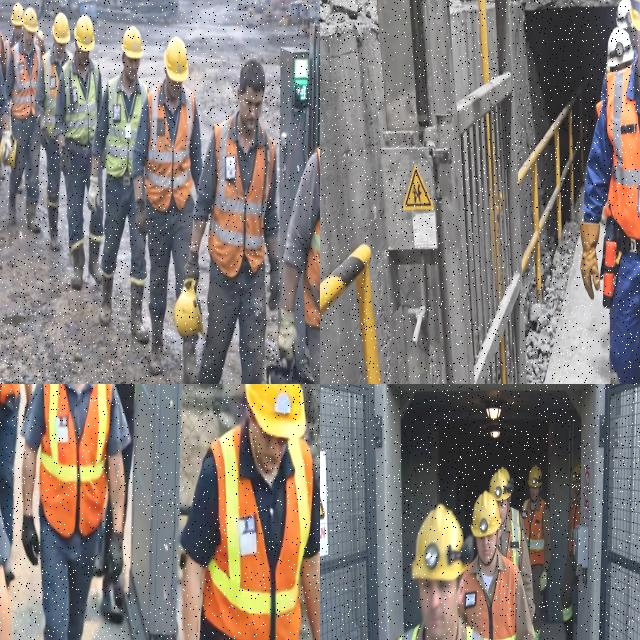Vest: (203, 426, 312, 639), (39, 384, 112, 537), (208, 115, 274, 277), (144, 83, 194, 211), (606, 67, 639, 239), (463, 560, 517, 640), (105, 76, 147, 177), (63, 59, 99, 145), (7, 43, 40, 119), (303, 217, 319, 328), (41, 49, 58, 137), (527, 504, 550, 568), (504, 521, 524, 561), (0, 384, 19, 403)
Worker: (180, 384, 319, 639), (184, 60, 280, 383), (21, 384, 129, 639), (132, 37, 201, 375), (580, 0, 639, 383), (88, 27, 148, 344), (55, 15, 101, 290), (398, 505, 485, 639), (461, 492, 533, 639), (278, 147, 319, 383), (35, 13, 69, 251), (5, 7, 40, 233), (489, 467, 533, 617), (521, 466, 550, 639), (561, 465, 580, 639), (0, 384, 20, 545), (114, 384, 134, 515), (0, 518, 10, 639), (0, 67, 11, 160), (0, 31, 6, 76), (35, 29, 45, 55)
helmet: (411, 505, 472, 580), (245, 384, 305, 439), (174, 279, 204, 338), (471, 491, 500, 537), (162, 37, 188, 83), (607, 27, 632, 71), (489, 467, 512, 501), (121, 27, 143, 59), (74, 15, 93, 51), (52, 12, 69, 43), (2, 135, 16, 169), (616, 0, 630, 28), (23, 7, 37, 33), (10, 3, 23, 26), (528, 465, 541, 487), (630, 0, 639, 31), (571, 464, 581, 482), (36, 29, 44, 43)
